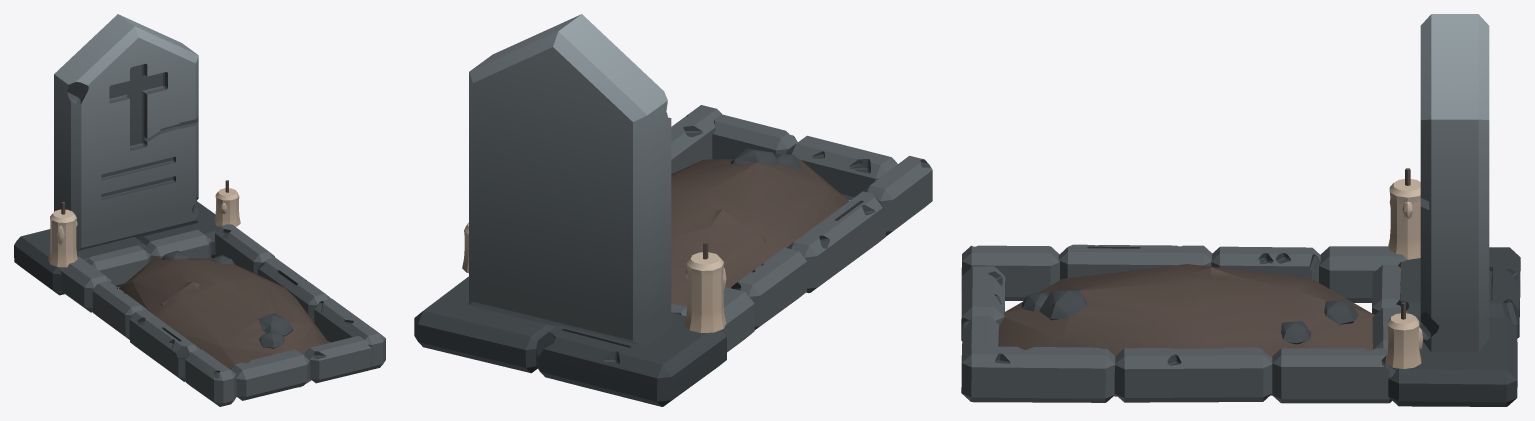
File: grave_slab.glb
3 views of the same model, side by side, from view 1: azimuth 30°, elevation 25°; view 2: azimuth 150°, elevation 25°; view 3: azimuth 270°, elevation 25° (orthographic). The views are drawn at different scales.
Parts seen in each view (by area): view 1: grave_slab; view 2: grave_slab; view 3: grave_slab.
Boxes of the visible parts, x1,y1,x2,y2 form: grave_slab: (14, 14, 385, 406); grave_slab: (414, 14, 932, 406); grave_slab: (961, 14, 1520, 406).
Size of the model in its own units: 1.41 by 1.72 by 2.61.
Materials: 1 (1 with a texture image).
